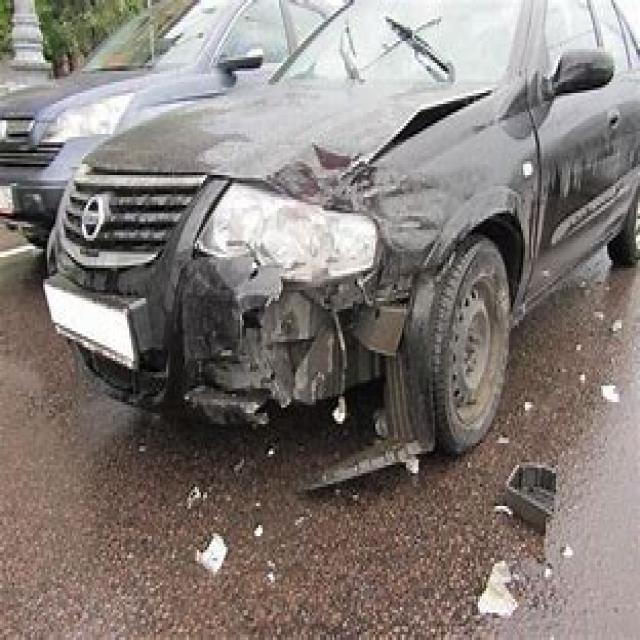Accident: (40, 35, 637, 489)
